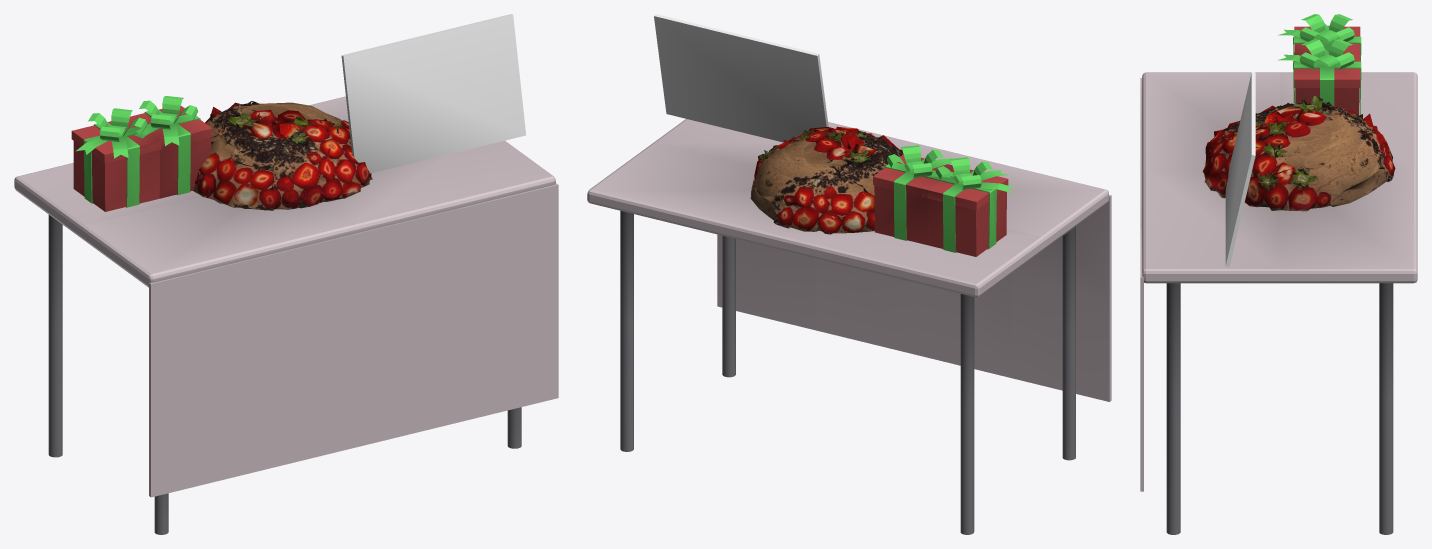
The model's file is pr_cake.glb.
3 views of the same model, side by side, from view 1: azimuth 30°, elevation 25°; view 2: azimuth 150°, elevation 25°; view 3: azimuth 270°, elevation 25° (orthographic). The views are drawn at different scales.
Visible parts, largest first — view 1: body, sign_card; view 2: body, sign_card; view 3: body, sign_card.
Part boxes in pixels (x1=…): body: x1=14, y1=96, x2=558, y2=534; sign_card: x1=341, y1=14, x2=525, y2=173; body: x1=587, y1=119, x2=1111, y2=534; sign_card: x1=654, y1=14, x2=828, y2=142; body: x1=1140, y1=14, x2=1417, y2=534; sign_card: x1=1225, y1=72, x2=1255, y2=267.
Bounding box in the file's own units: 1.23 × 1.11 × 0.705.
Materials: 6 (3 with a texture image).
